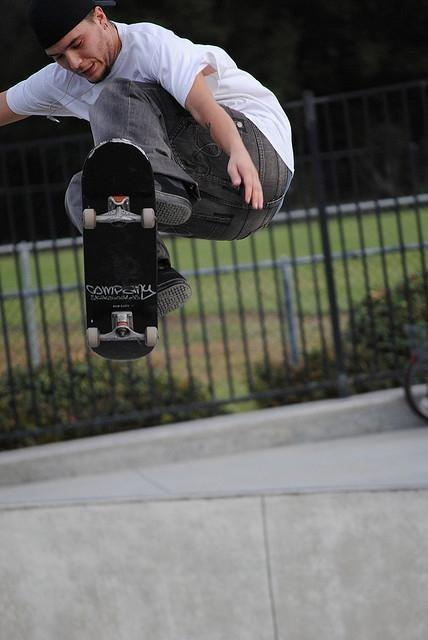bicycle: (405, 344, 428, 424)
